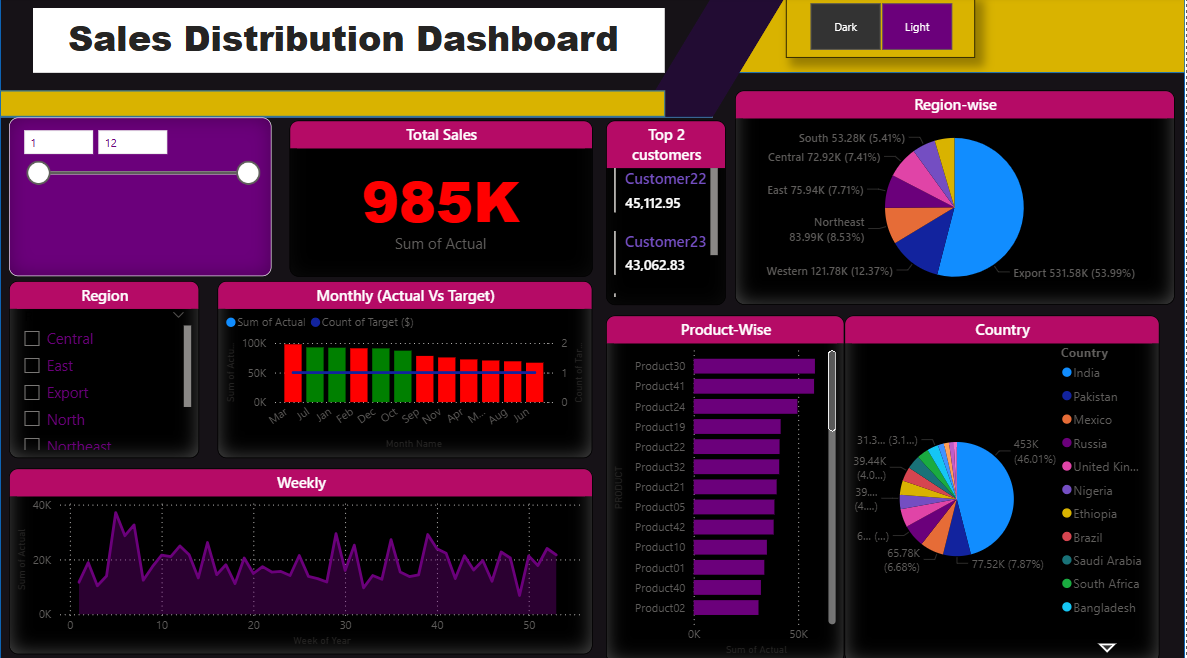

This screenshot's page, from the dashboard's own definition file:
{"tool":"powerbi","page":{"name":"Page 1","canvas":[1280,720],"ordinal":0},"visuals":[{"type":"shape","box":[0,0,1279.2,720.6],"z":500},{"type":"shape","box":[0,0,769.1,131.2],"z":1000},{"type":"textbox","box":[35.9,13.2,682.2,69.9],"z":1500},{"type":"slicer","fields":{"Values":["InputData.Month"]},"box":[9.7,131.2,283.4,171.6],"z":3000},{"type":"card","title":"Total Sales","fields":{"Values":["Sum(InputData.Actual)"]},"box":[312.5,134.4,327.1,168.4],"z":4000},{"type":"slicer","title":"Region","fields":{"Values":["Country.Region"]},"box":[9.7,307.7,205.6,191.1],"z":5000},{"type":"lineStackedColumnComboChart","title":"Monthly  (Actual Vs Target)","fields":{"Category":["TargetData.Month Name"],"Y":["Sum(InputData.Actual)"],"Y2":["CountNonNull(TargetData.Target ($))"]},"box":[234.8,307.7,404.8,191.1],"z":6000},{"type":"areaChart","title":"Weekly","fields":{"Category":["InputData.Week of Year"],"Y":["Sum(InputData.Actual)"]},"box":[9.7,510.1,629.9,200.8],"z":7000},{"type":"multiRowCard","title":"Top 2 customers","fields":{"Values":["InputData.CUSTOMER NAME","Sum(InputData.Actual)"]},"box":[654.2,134.4,129.5,199.2],"z":8000},{"type":"clusteredBarChart","title":"Product-Wise","fields":{"Category":["InputData.PRODUCT"],"Y":["Sum(InputData.Actual)"]},"box":[654.2,344.9,257.5,375.7],"z":9000},{"type":"pieChart","title":" Region-wise","fields":{"Category":["Country.Region"],"Y":["Sum(InputData.Actual)"]},"box":[793.4,102,474.4,231.5],"z":10000},{"type":"pieChart","title":" Country","fields":{"Category":["Country.Country"],"Y":["Sum(InputData.Actual)"]},"box":[911.6,344.9,340,375.7],"z":11000},{"type":"shape","box":[769.1,0,510.2,83.2],"z":12000},{"type":"shape","box":[689.8,0,158.7,130.4],"z":13000},{"type":"shape","box":[0,102,718.1,28.3],"z":14000},{"type":"slicer","fields":{"Values":["Theme.Theme"]},"box":[848.5,0,204,66.4],"z":15000}]}

Visuals, with their boxes in screenshot pixels (x1, y1, x2, y2), scaled from the page's 1280x720 canvas onto the 1187x658 screenshot:
shape: <box>0,0,1186,657</box>
shape: <box>0,0,713,120</box>
textbox: <box>33,12,666,76</box>
slicer - InputData.Month: <box>9,120,272,277</box>
"Total Sales" card: <box>290,123,593,277</box>
"Region" slicer: <box>9,281,200,456</box>
"Monthly  (Actual Vs Target)" lineStackedColumnComboChart: <box>218,281,593,456</box>
"Weekly" areaChart: <box>9,466,593,650</box>
"Top 2 customers" multiRowCard: <box>607,123,727,305</box>
"Product-Wise" clusteredBarChart: <box>607,315,845,657</box>
" Region-wise" pieChart: <box>736,93,1176,305</box>
" Country" pieChart: <box>845,315,1161,657</box>
shape: <box>713,0,1186,76</box>
shape: <box>640,0,787,119</box>
shape: <box>0,93,666,119</box>
slicer - Theme.Theme: <box>787,0,976,61</box>
